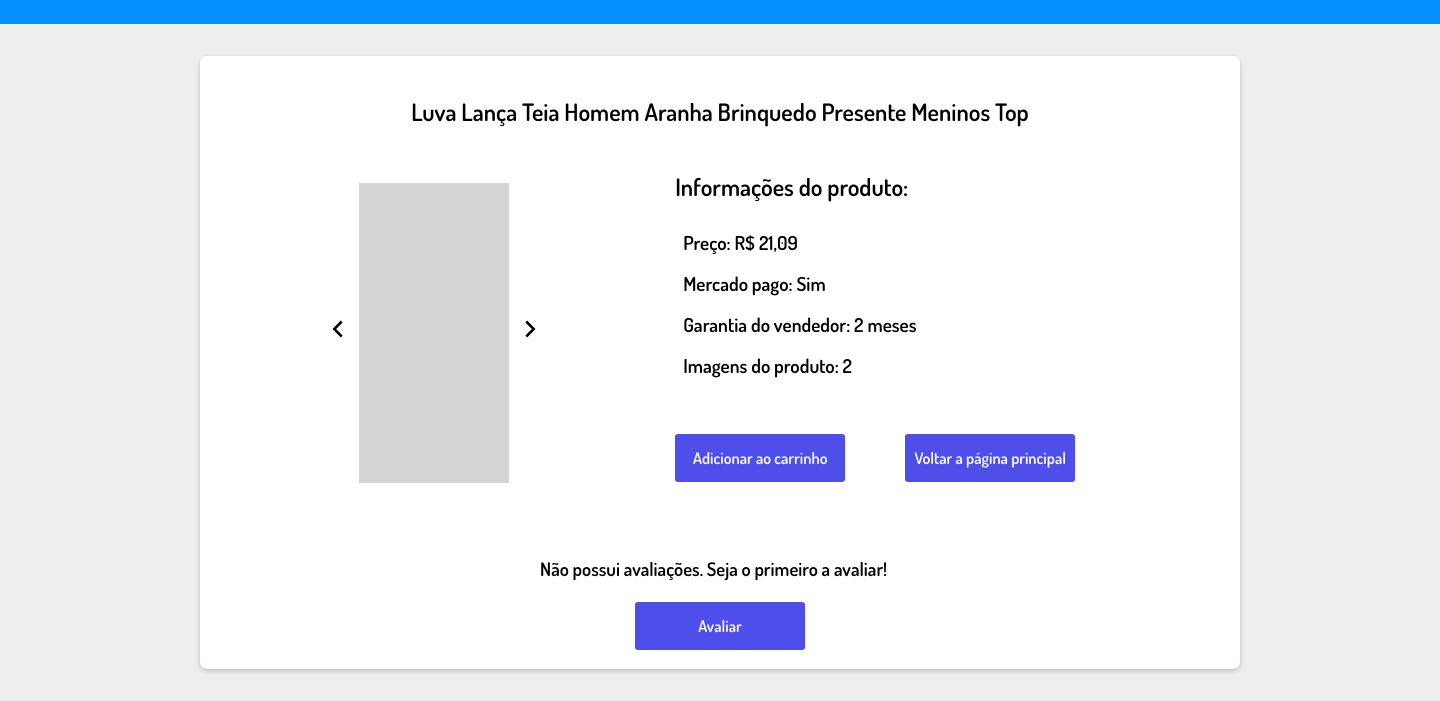
Test: Testes do ProductReview › Testa se ao clicar em avaliar e depois no botão de cancelar, o botão "Avaliar" volta a aparecer na tela
(page scrolled)
Check: the heading named "noReviewDefaultMessage" reads "Não possui avaliações. Seja o primeiro a avaliar!", box [540, 557, 887, 580]
Click the button with aria-label "reviewBtn" at point(720, 626), box [635, 602, 805, 650]
(page scrolled)
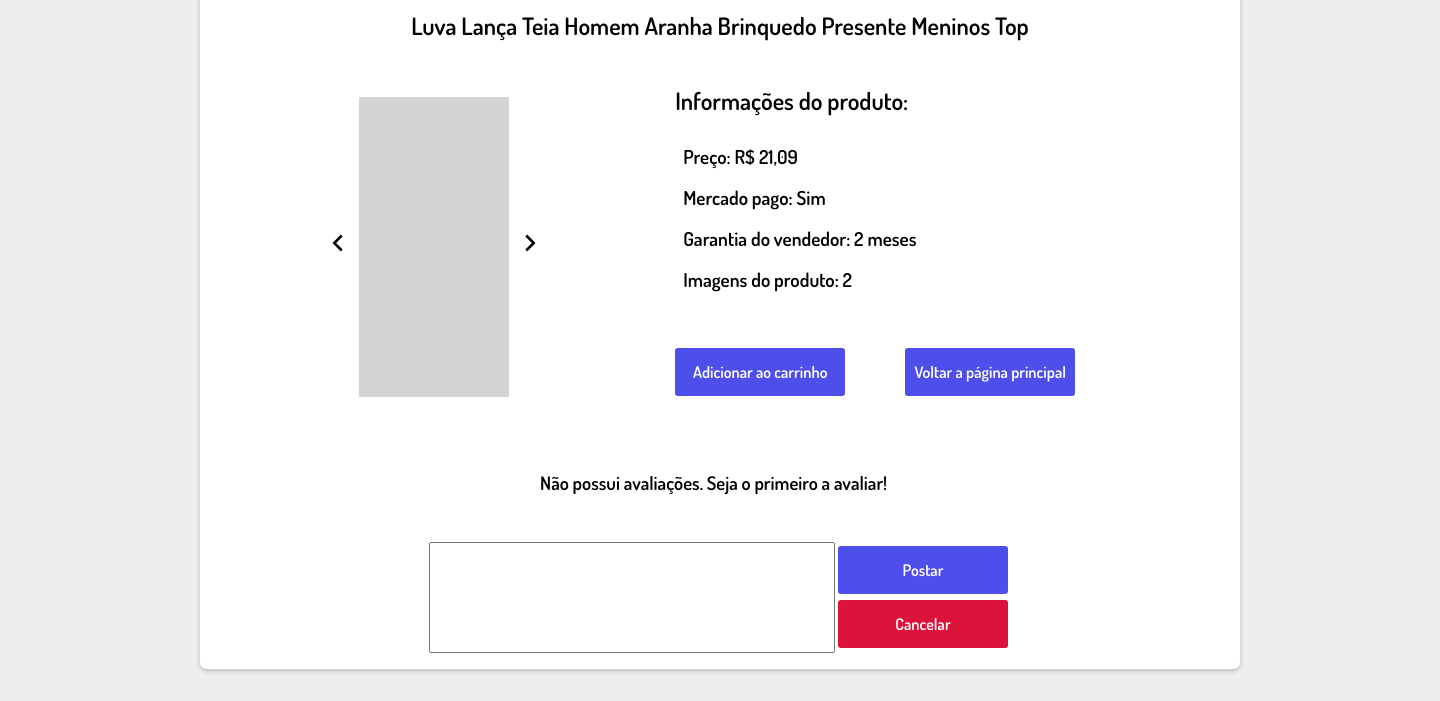
Check: the button with aria-label "submitReviewBtn" is shown, box [838, 546, 1008, 594]
Check: the button with aria-label "cancelReviewBtn" is shown
Click the button with aria-label "cancelReviewBtn" at point(923, 624), box [838, 600, 1008, 648]
(page scrolled)
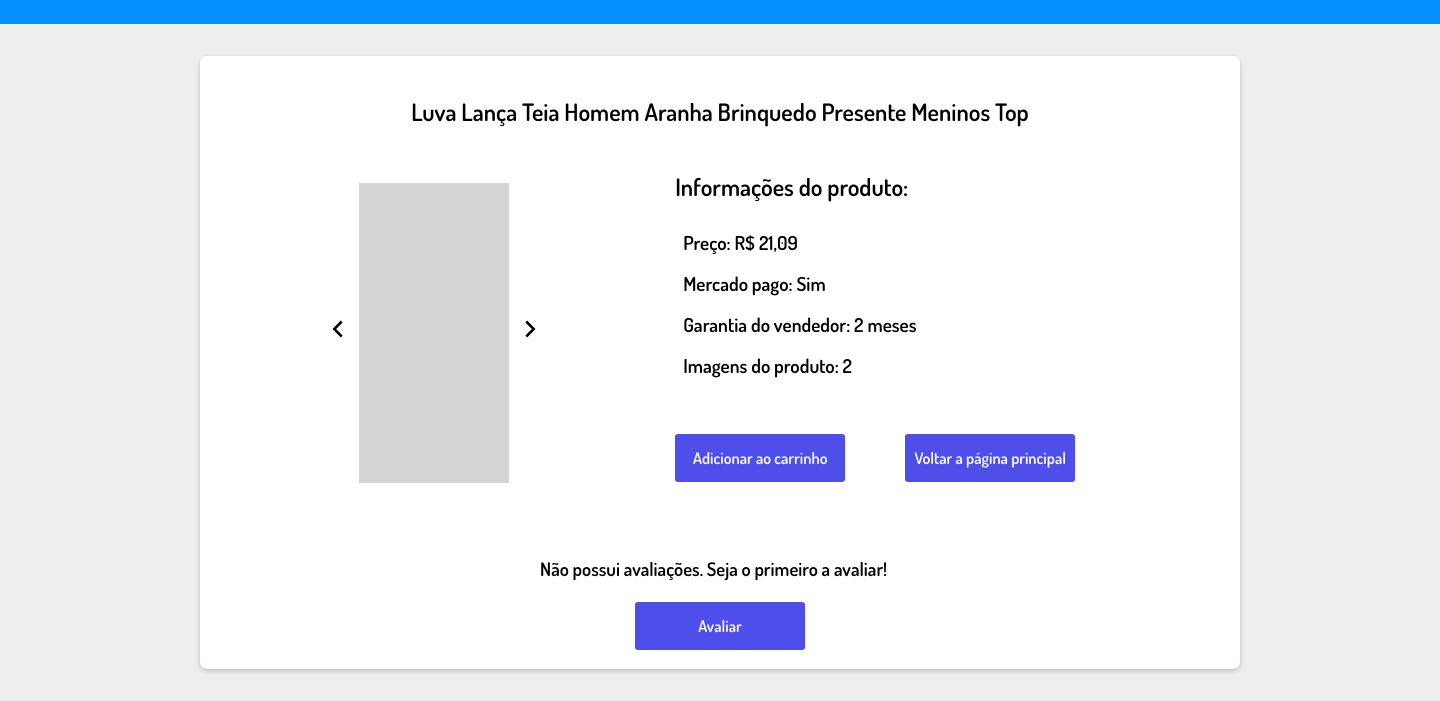
Check: the button with aria-label "reviewBtn" is shown, box [635, 602, 805, 650]
